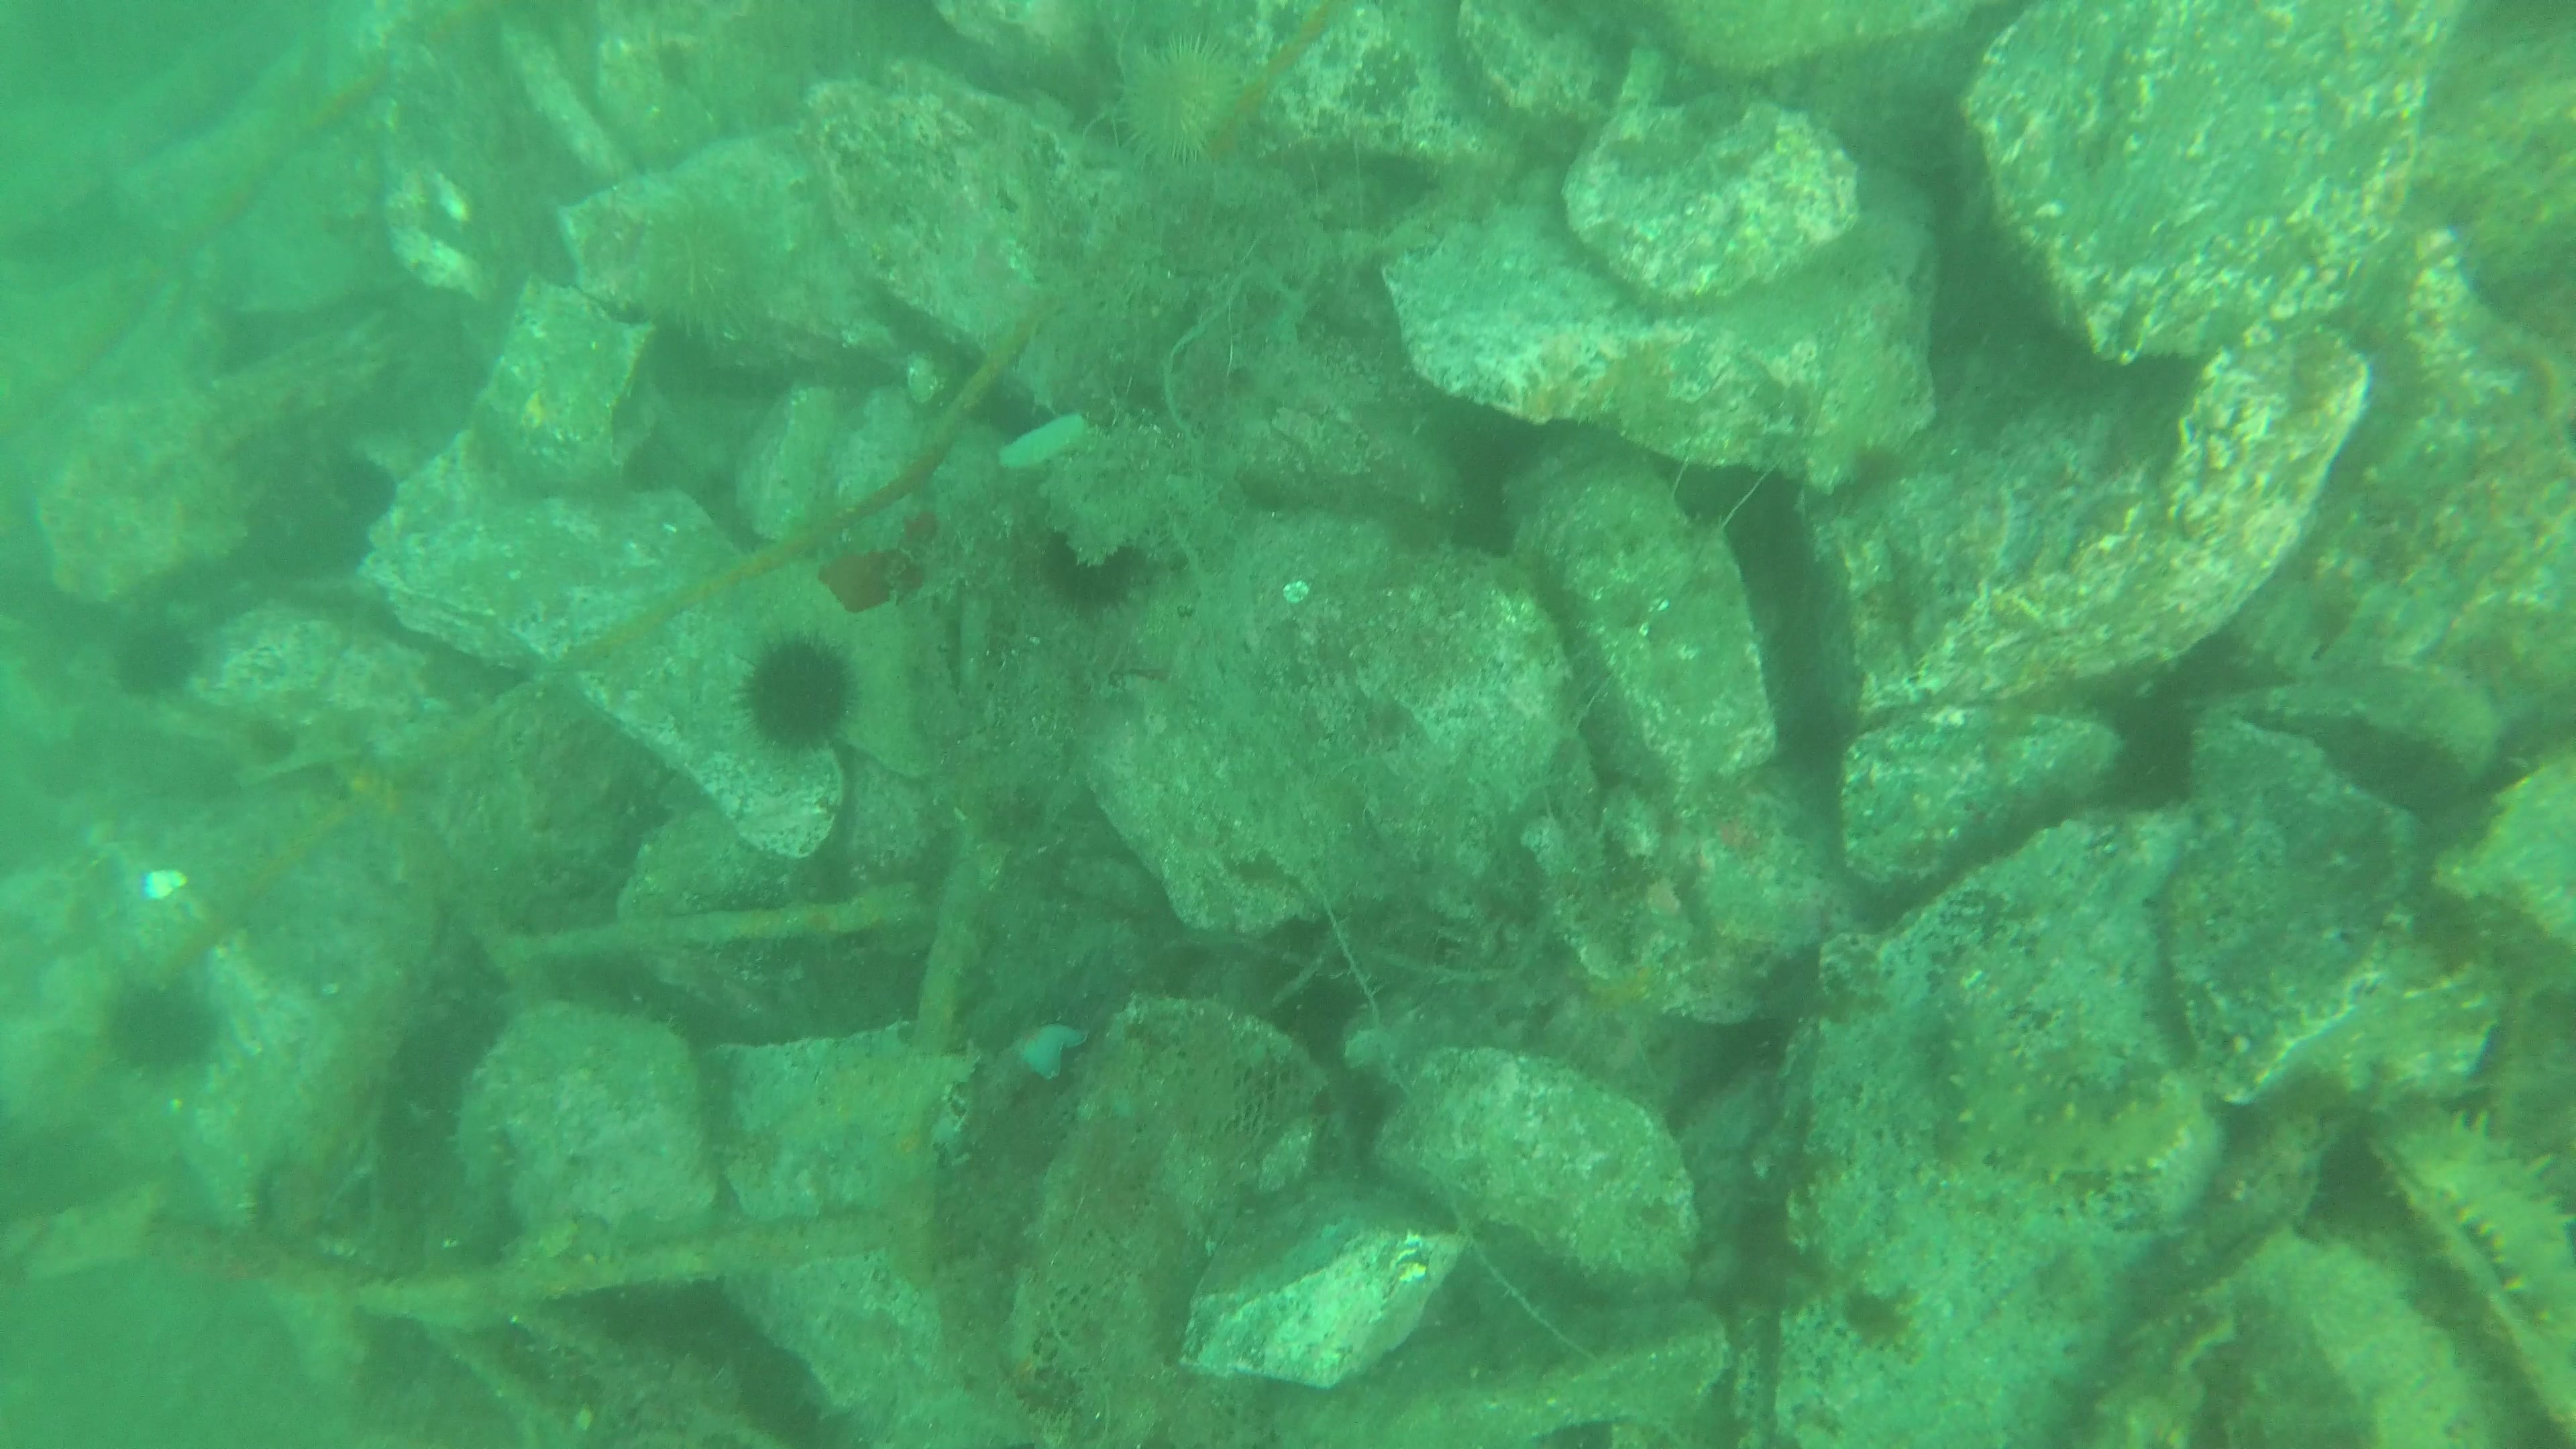echinus: (639, 202, 780, 341), (1099, 30, 1237, 161), (87, 970, 228, 1069), (743, 626, 856, 743), (1035, 517, 1148, 617), (97, 612, 203, 701)
holothurian: (1916, 1008, 2183, 1185), (2387, 1109, 2576, 1339)
